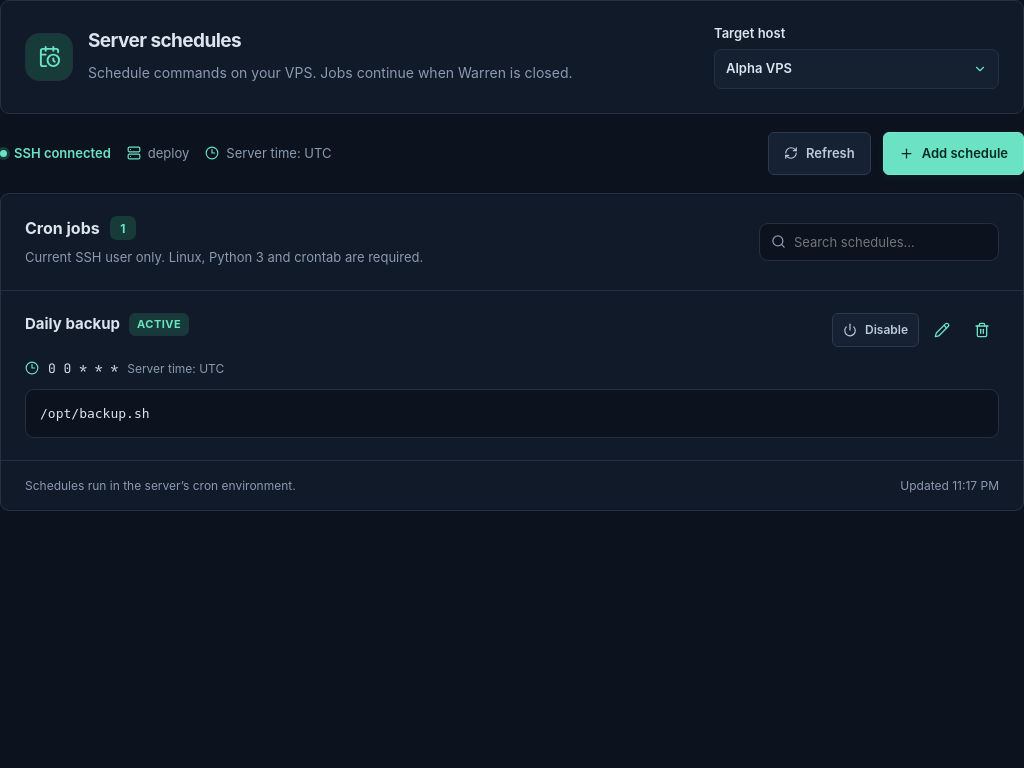
Test: creates a schedule on the displayed host using the current revision without executing it
Check: the heading "Daily backup" is shown, box [25,313,120,336]
Click the button "Add schedule".
click(953, 153)  # box [883,132,1023,175]
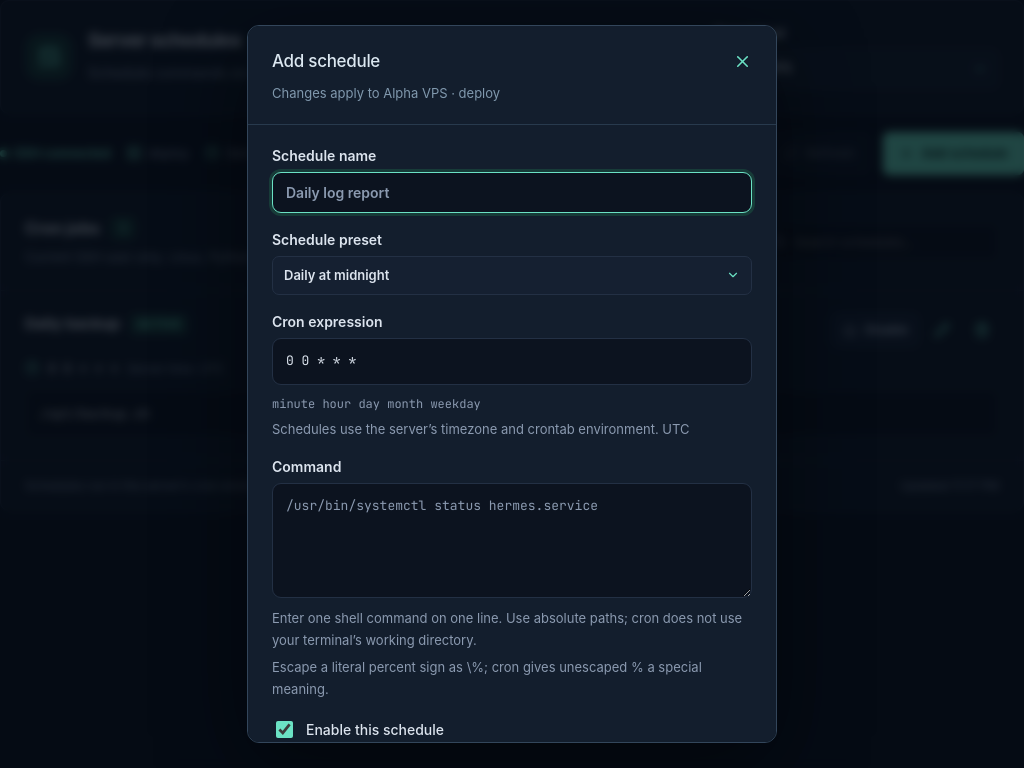
Type "Restart Hermes" into the field labelled "Schedule name".
click(512, 192); type("Restart Hermes")  # box [272,172,752,213]
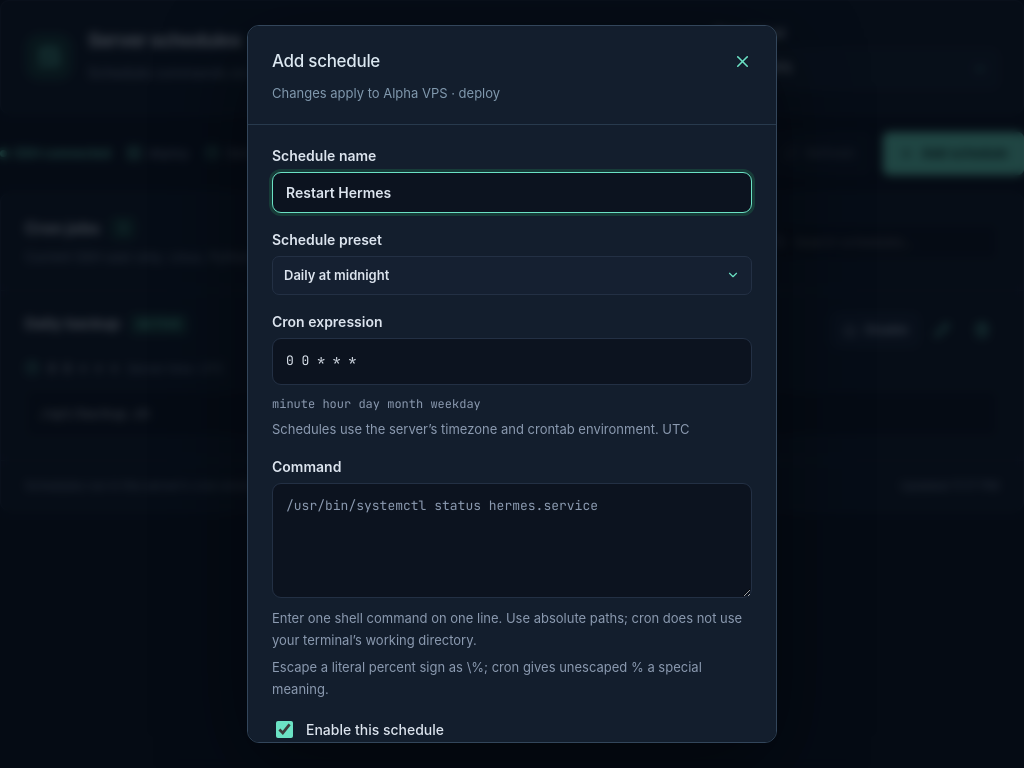
Replace the text in the field labelled "Cron expression" with "0 4 * * *" at {"x": 512, "y": 362}, box [272,338,752,385]
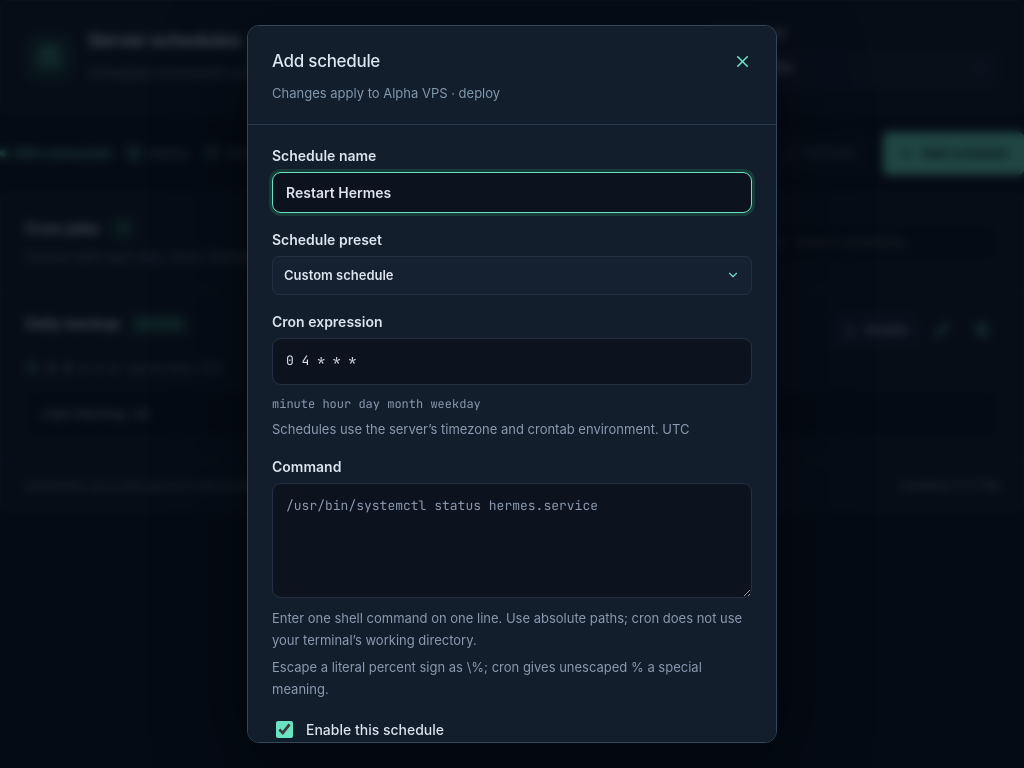
Type "/usr/bin/systemctl restart hermes.service" into the text box labelled "Command".
click(512, 541); type("/usr/bin/systemctl restart hermes.service")  # box [272,483,752,598]
(page scrolled)
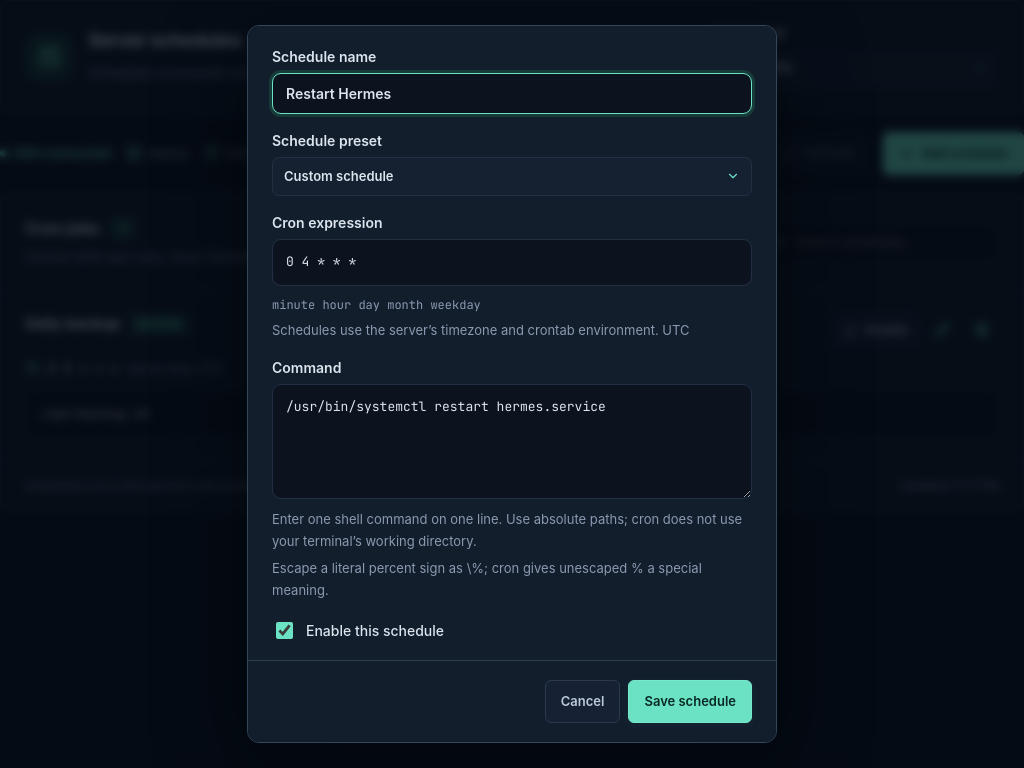
Click the button "Save schedule".
click(690, 701)  # box [628,680,752,723]
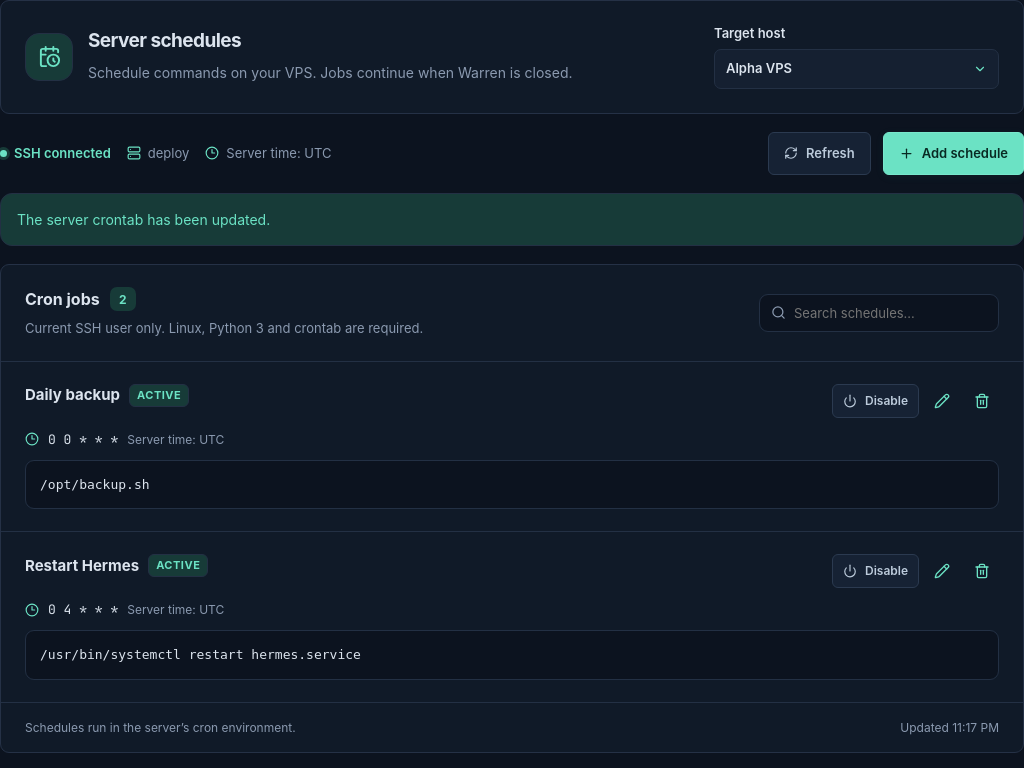
Check: the dialog is gone
Check: the heading "Restart Hermes" is shown, box [25,555,139,577]
